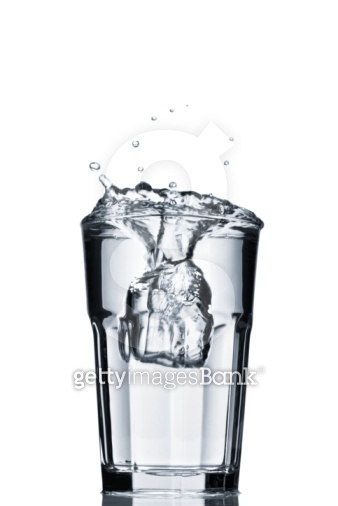glass of water: (81, 184, 249, 495)
